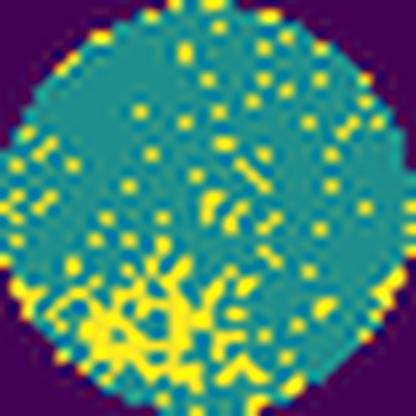Loc: (46, 238, 264, 396)
